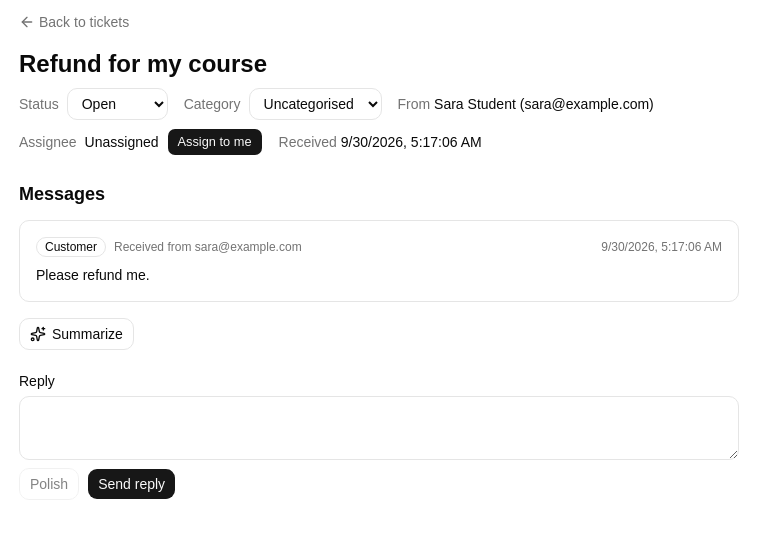
it: TicketDetailPage › replying › does not send an empty reply
The width and height of the screenshot is (759, 545).
Expected: the text box labelled "Reply" is shown, [19,396,739,460]
Click the button "Send reply": [132, 484] box [87,468,176,500]
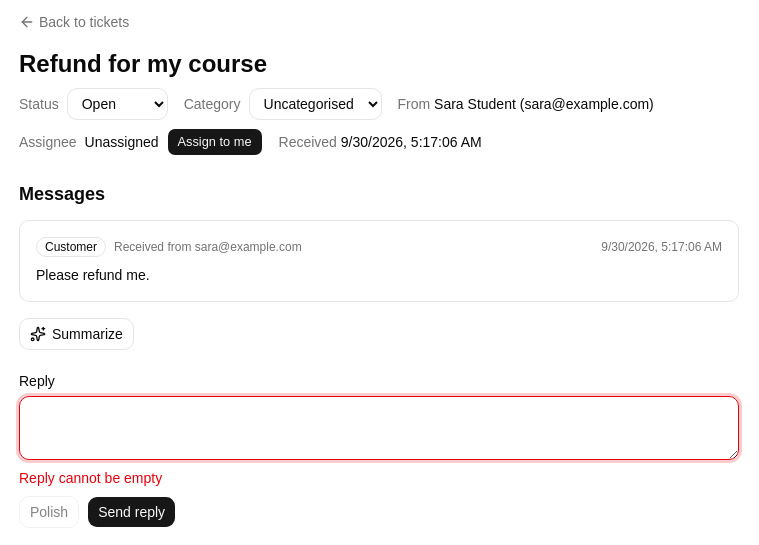
Expected: the message reads "Reply cannot be empty", [19,470,162,486]
